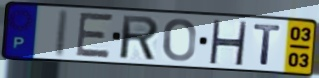E: (74, 11, 116, 60)
H: (207, 18, 249, 67)
I: (51, 8, 71, 59)
O: (161, 17, 198, 63)
R: (120, 13, 161, 62)
T: (252, 23, 284, 67)
